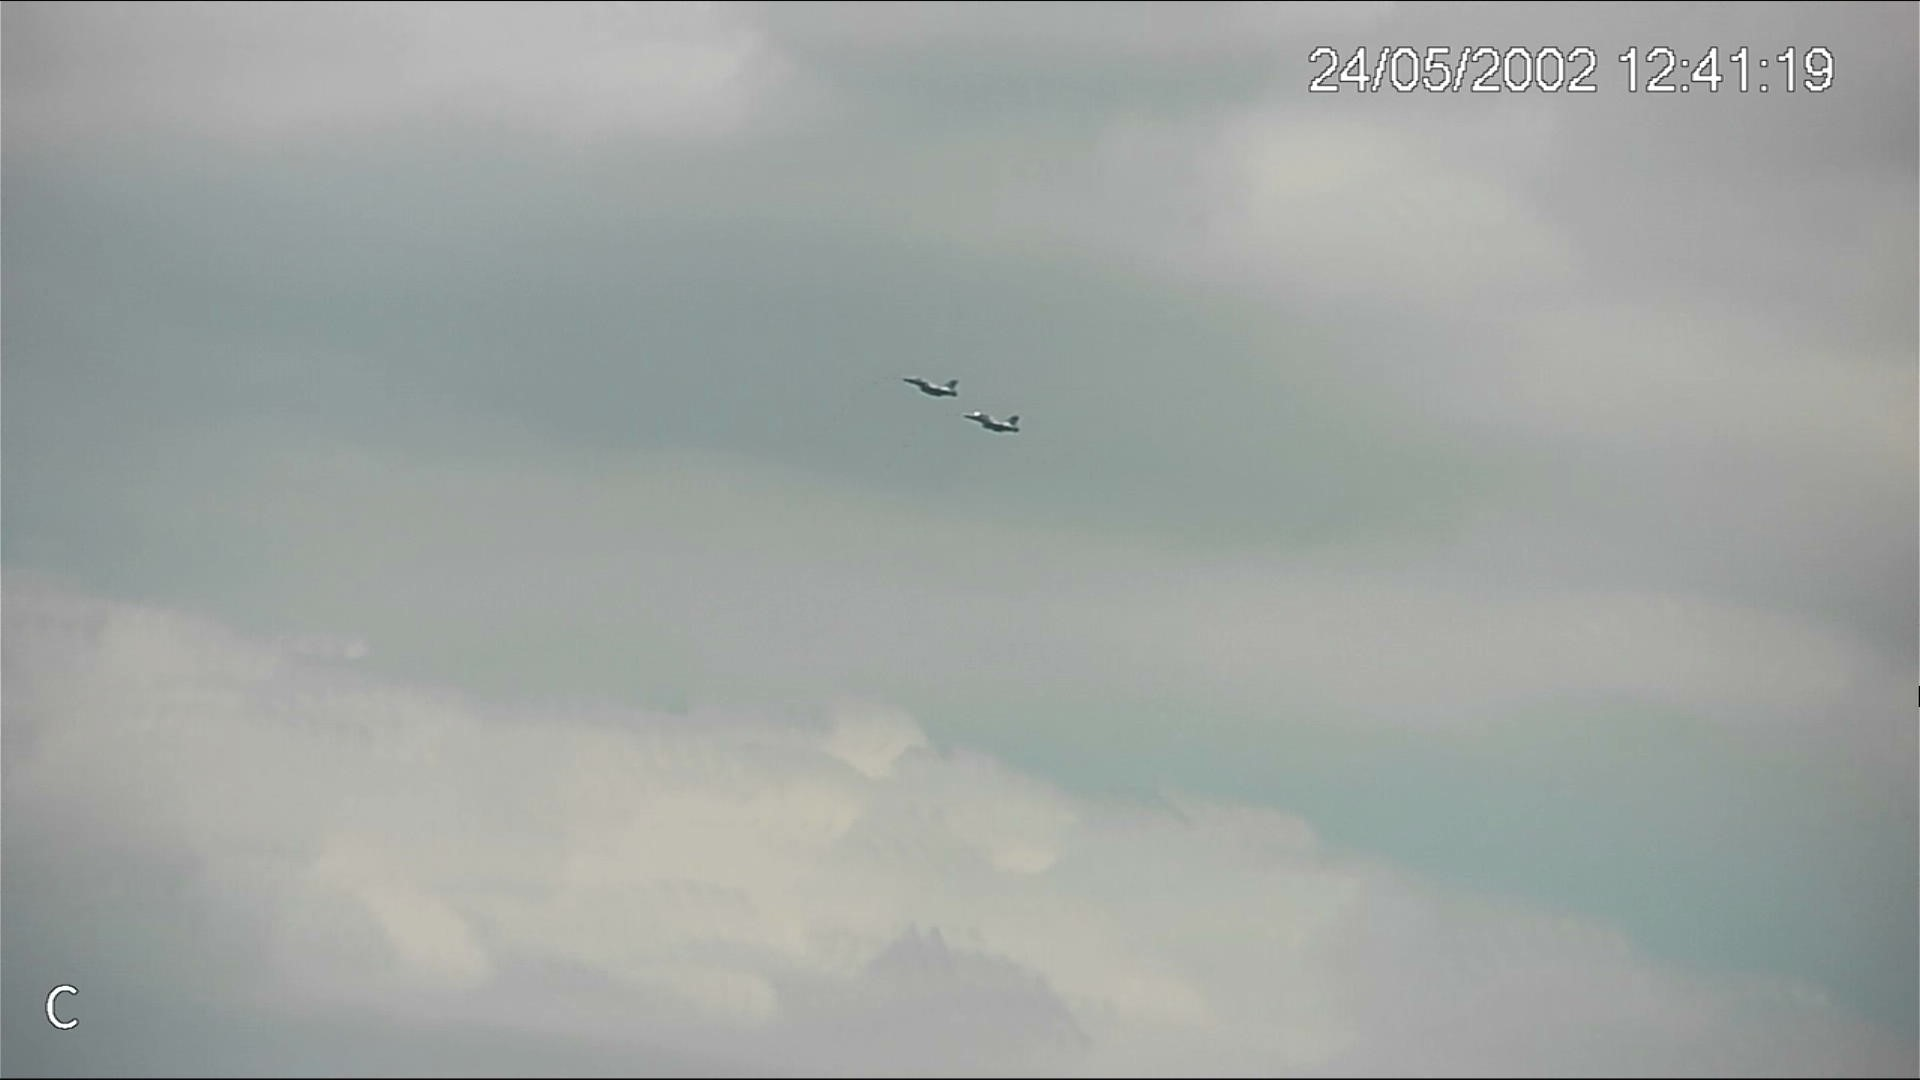SU_30: (963, 411, 1022, 434), (905, 376, 957, 398)
